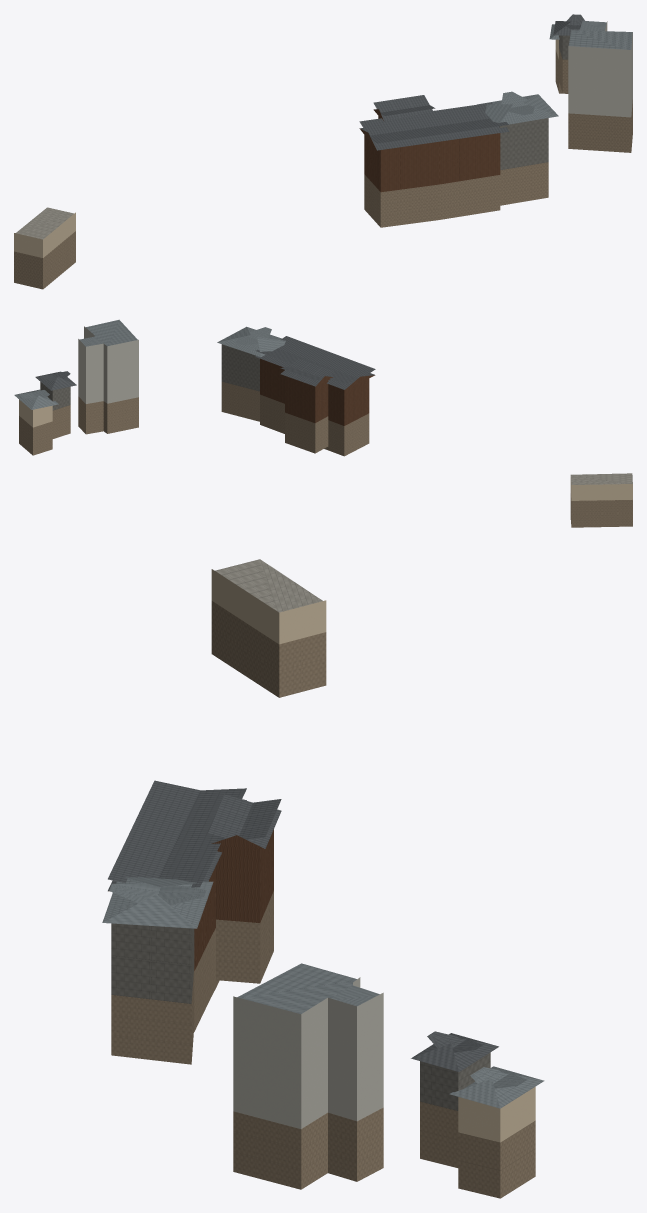
Rendered from bld_c21_45_394.gltf.
The picture shows the model from 3 angles, top to bottom: view 1: azimuth 30°, elevation 25°; view 2: azimuth 150°, elevation 25°; view 3: azimuth 270°, elevation 25°; orthographic projection. The views are drawn at different scales.
Parts seen in each view (by area): view 1: bld_c21_45_394; view 2: bld_c21_45_394; view 3: bld_c21_45_394.
Part boxes in pixels (<box>): bld_c21_45_394: <box>14,14,632,289</box>; bld_c21_45_394: <box>14,319,632,527</box>; bld_c21_45_394: <box>102,559,544,1198</box>.
Bounding box in the file's own units: 98.5 × 14.78 × 33.76.
Materials: 11 (11 with a texture image).
